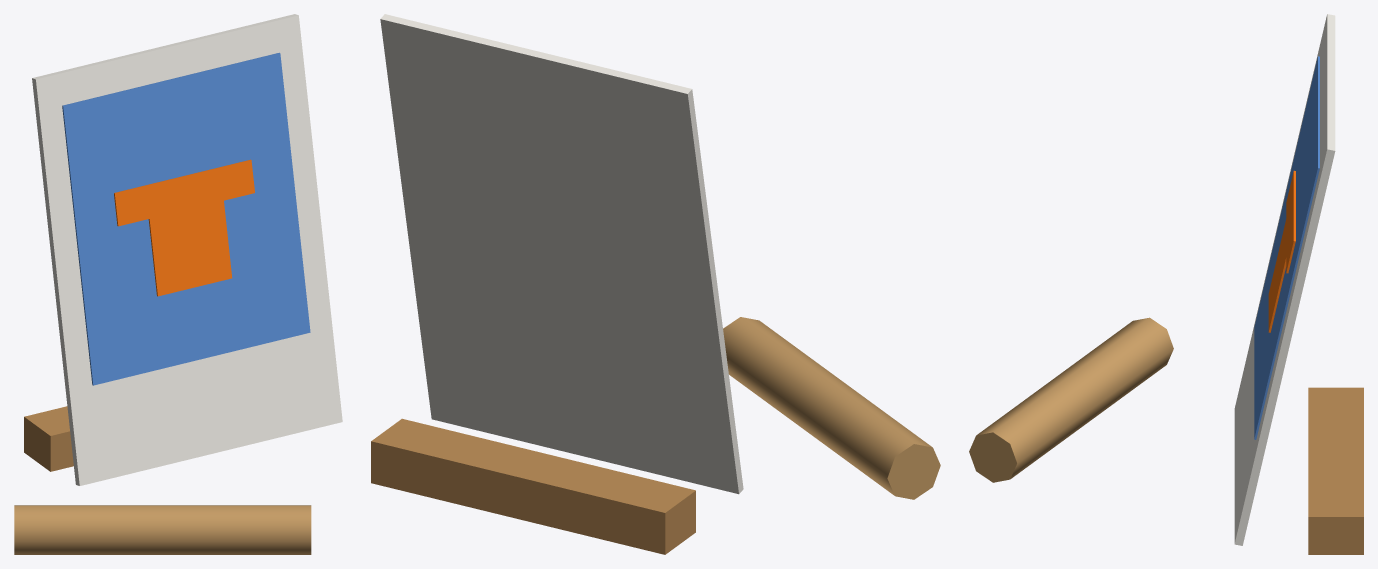
File: station_intake_ausstattung_3_0.glb
3 renders of one model, left to right at view 1: azimuth 30°, elevation 25°; view 2: azimuth 150°, elevation 25°; view 3: azimuth 270°, elevation 25°, orthographic. The views are drawn at different scales.
Visible parts, largest first — view 1: station_intake_ausstattung_3_0; view 2: station_intake_ausstattung_3_0; view 3: station_intake_ausstattung_3_0.
Boxes of the visible parts, left/top/right/bottom form: station_intake_ausstattung_3_0: left=14, top=14, right=342, bottom=554; station_intake_ausstattung_3_0: left=371, top=14, right=940, bottom=554; station_intake_ausstattung_3_0: left=969, top=14, right=1363, bottom=554.
Size of the model in its own units: 0.6649 by 0.6473 by 0.5671.
